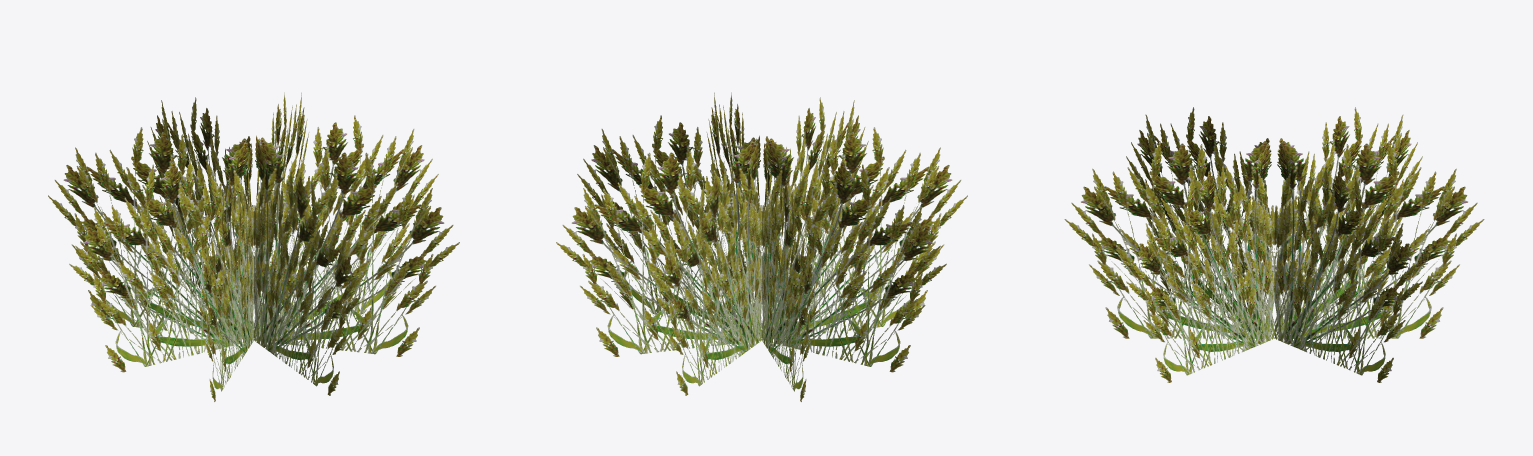
File: plant_001.fbx
3 renders of one model, left to right at view 1: azimuth 30°, elevation 25°; view 2: azimuth 150°, elevation 25°; view 3: azimuth 270°, elevation 25°, orthographic.
Parts seen in each view (by area): view 1: plant; view 2: plant; view 3: plant.
Part boxes in pixels (x1,y1,x2,y2): plant: [48, 92, 459, 401]; plant: [556, 92, 967, 401]; plant: [1064, 107, 1484, 382].
Size of the model in its own units: 93.75 by 46.88 by 93.75.
